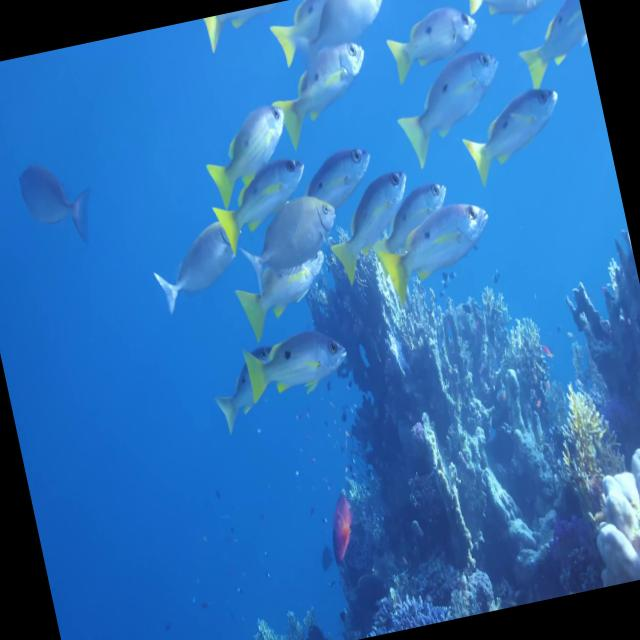fish: (386, 36, 530, 176), (196, 127, 331, 266), (309, 138, 428, 292), (373, 167, 510, 297), (178, 76, 302, 212), (140, 201, 252, 343), (224, 178, 354, 296), (269, 27, 382, 154), (456, 78, 576, 195), (353, 158, 461, 286), (370, 0, 495, 99), (12, 148, 112, 262), (238, 314, 362, 404), (230, 251, 338, 348), (202, 333, 299, 435), (506, 0, 597, 99), (264, 0, 399, 64), (297, 134, 378, 208), (312, 474, 372, 569), (454, 0, 561, 42), (198, 2, 284, 47)
